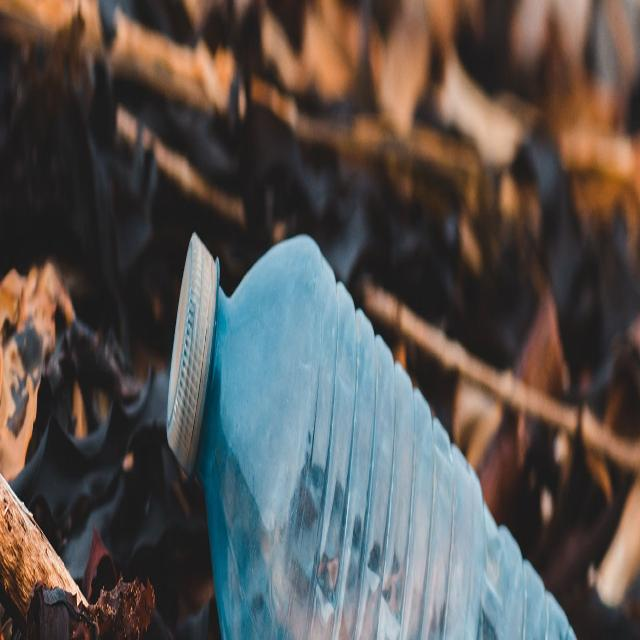plastic_bottle: (166, 228, 579, 637)
